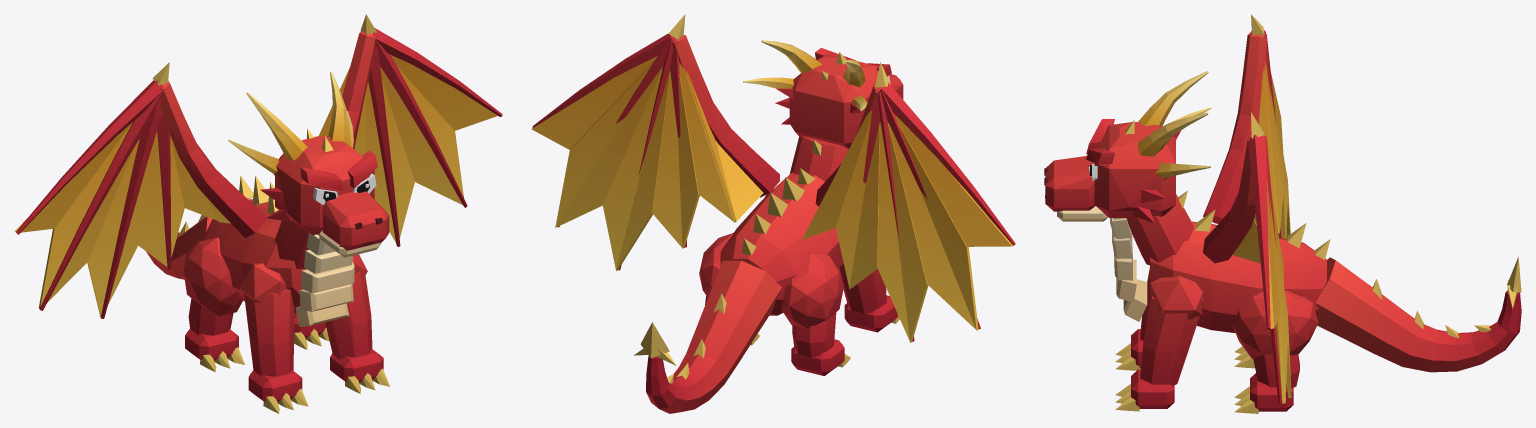
Rendered from RookieDragon.glb.
3 renders of one model, left to right at view 1: azimuth 30°, elevation 25°; view 2: azimuth 150°, elevation 25°; view 3: azimuth 270°, elevation 25°, orthographic. The views are drawn at different scales.
Visible parts, largest first — view 1: rookie_dragon; view 2: rookie_dragon; view 3: rookie_dragon.
Part boxes in pixels (x1,y1,x2,y2): rookie_dragon: (14, 14, 502, 413); rookie_dragon: (531, 14, 1015, 413); rookie_dragon: (1044, 14, 1521, 413).
Size of the model in its own units: 1.97 by 1.21 by 1.64.
Materials: 1 (1 with a texture image).
